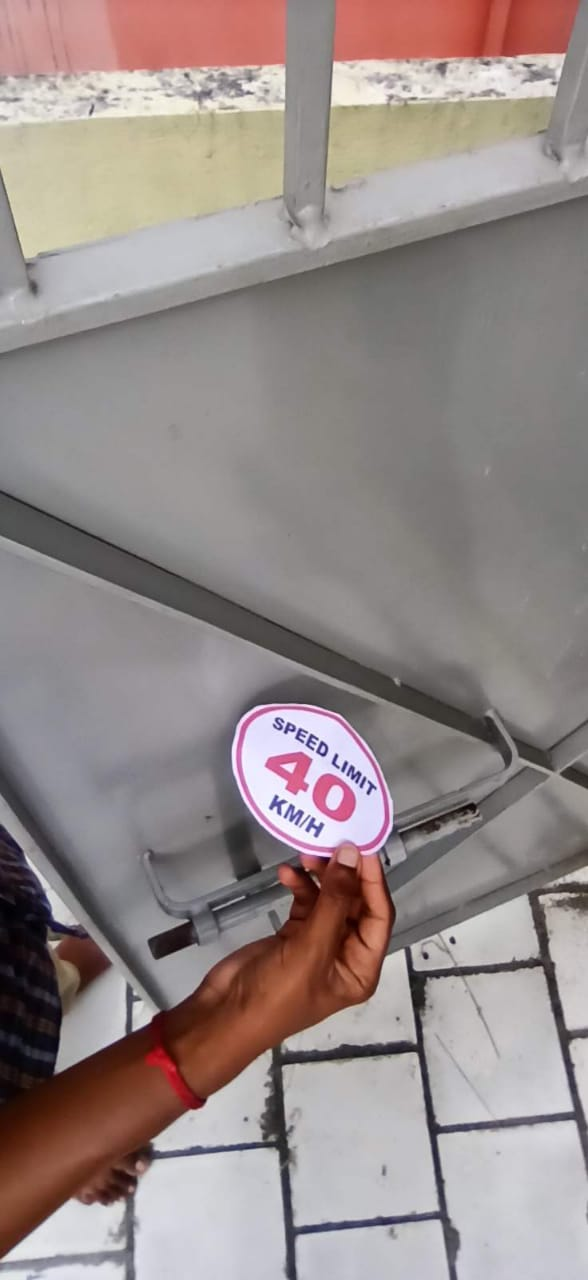SPEED LIMIT (40 KM/H): (205, 691, 400, 880)
